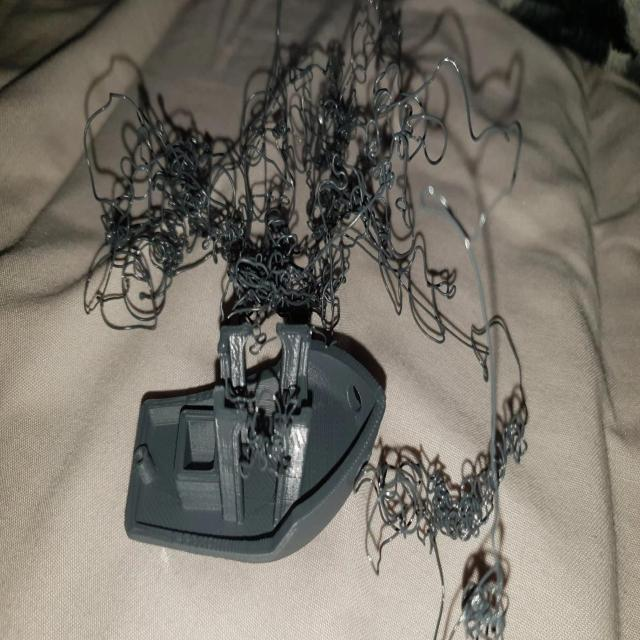Spaghetti: (61, 3, 447, 395), (362, 405, 543, 640), (230, 392, 300, 484)
